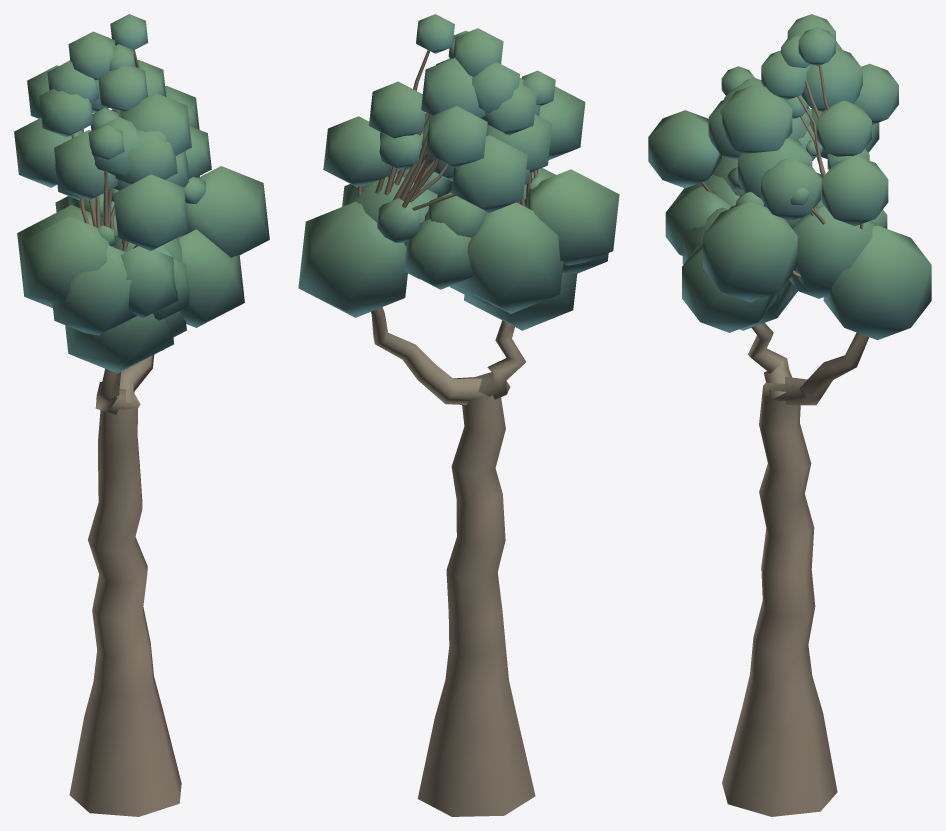
File: seed_tree_i.glb
3 renders of one model, left to right at view 1: azimuth 30°, elevation 25°; view 2: azimuth 150°, elevation 25°; view 3: azimuth 270°, elevation 25°, orthographic. The views are drawn at different scales.
Visible parts, largest first — view 1: seed_tree_i_LOD0; view 2: seed_tree_i_LOD0; view 3: seed_tree_i_LOD0.
Part boxes in pixels (bbox=[...]): seed_tree_i_LOD0: bbox=[14, 14, 269, 816]; seed_tree_i_LOD0: bbox=[298, 14, 619, 816]; seed_tree_i_LOD0: bbox=[648, 14, 931, 816].
Size of what is drawn, in the model's own units: 4.75 by 14.56 by 4.8.
